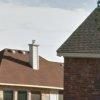Chimney: (24, 36, 42, 73)
